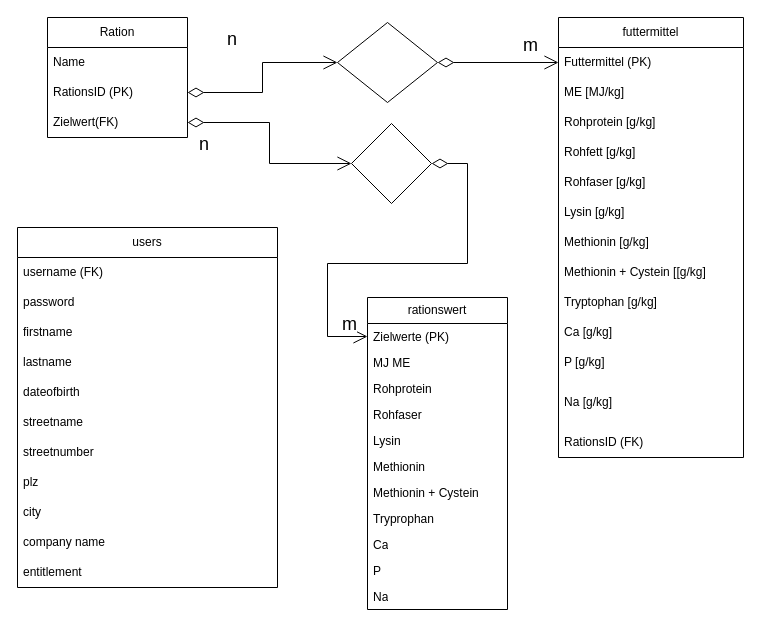
This 761x630 diagram has some shape labels left out. Each missing label, with the centre of its shape:
"Anteil an der Ration" belongs at (387,62).
"Anteil an Zielwert" belongs at (391,163).
